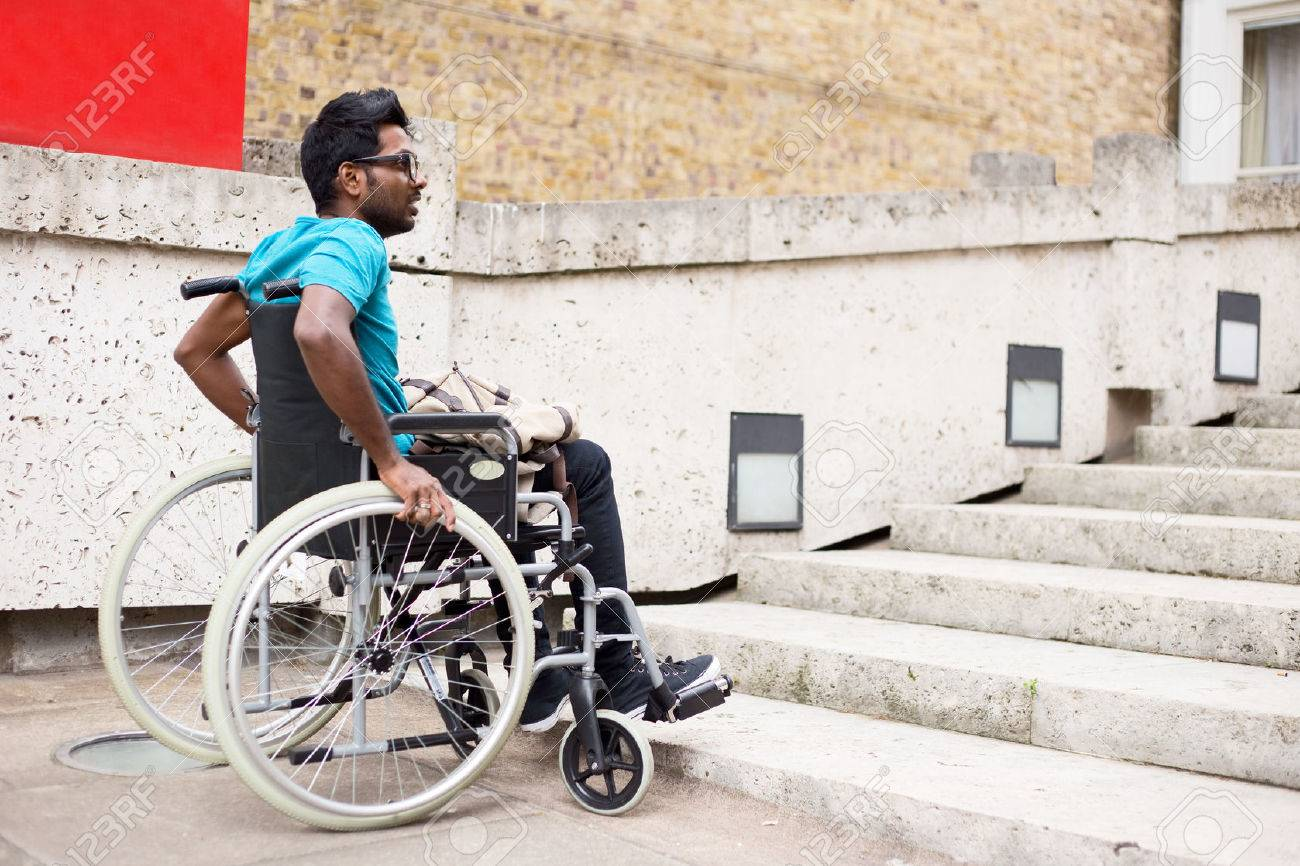wheelchair: (101, 88, 732, 831)
